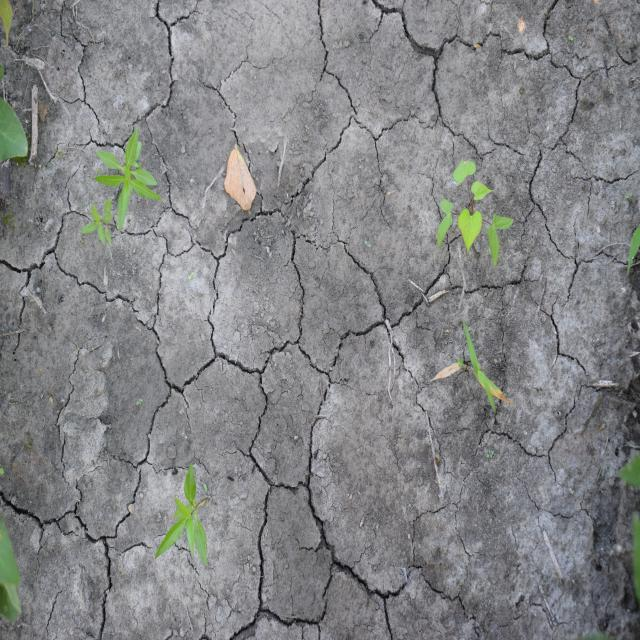Eclipta: (92, 124, 164, 233), (154, 460, 212, 569), (78, 197, 115, 247)
MorningGlory: (436, 157, 514, 267)
